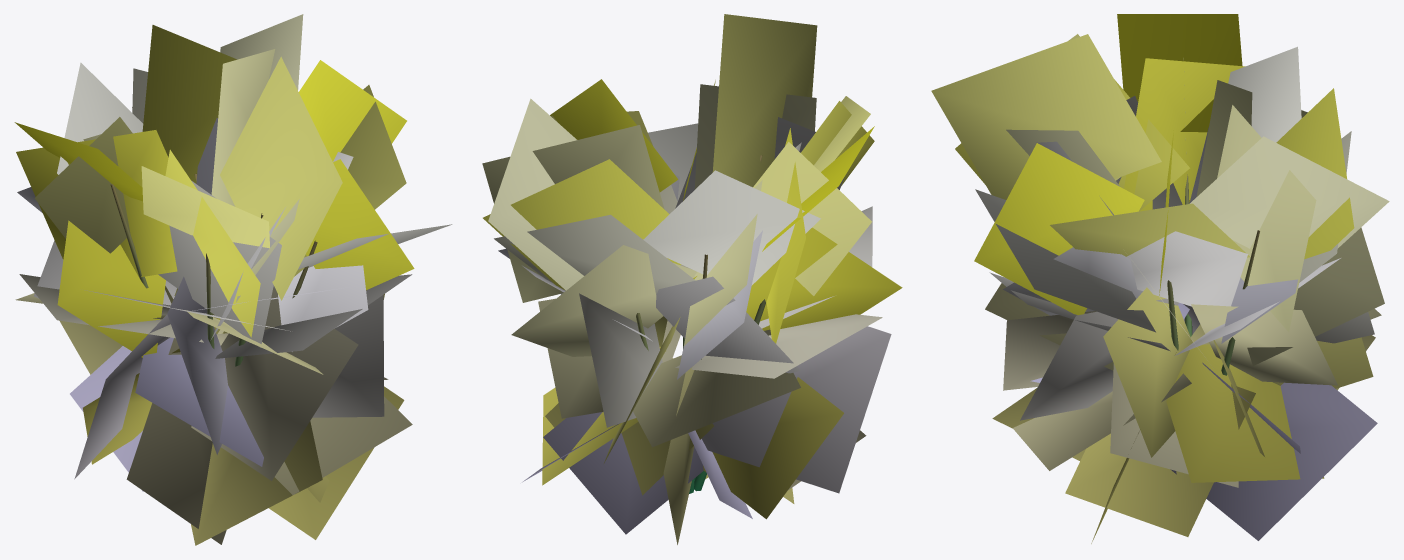
The model's file is bush.glb.
3 renders of one model, left to right at view 1: azimuth 30°, elevation 25°; view 2: azimuth 150°, elevation 25°; view 3: azimuth 270°, elevation 25°, orthographic. The views are drawn at different scales.
Parts seen in each view (by area): view 1: bush_cards, bush_bark; view 2: bush_cards, bush_bark; view 3: bush_cards, bush_bark.
Part boxes in pixels (left/top/right/bottom): bush_cards: left=14, top=14, right=452, bottom=545; bush_bark: left=110, top=173, right=317, bottom=366; bush_cards: left=482, top=14, right=902, bottom=544; bush_bark: left=636, top=155, right=765, bottom=493; bush_cards: left=931, top=14, right=1389, bottom=543; bush_bark: left=1167, top=174, right=1259, bottom=375.
Bounding box in the file's own units: 2.92 × 3.74 × 3.15.
